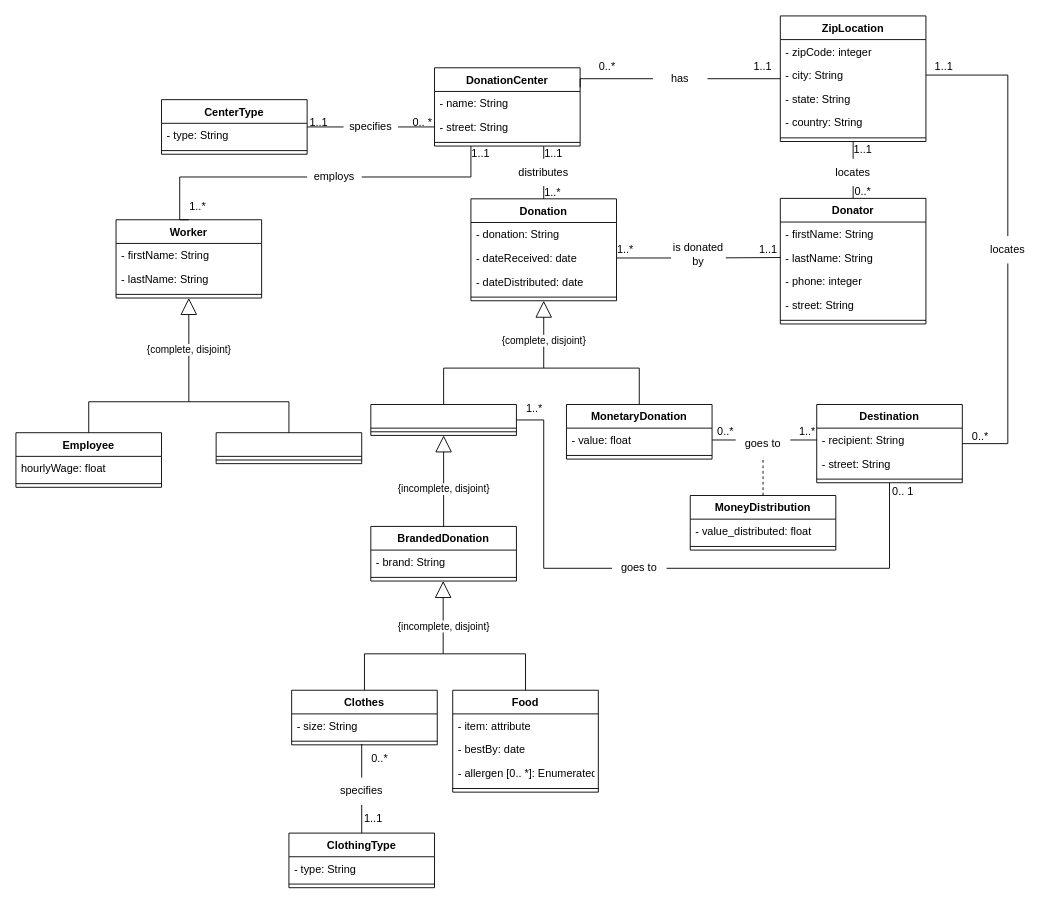
Some shapes in this 1051 by 904 pixel diagram are drawn without their labels. Here are the shapes that lost their labels. From the top down, the centre of each, then its label:
At (x=443, y=419): "PhysicalDonation".
At (x=288, y=448): "Volunteer".
